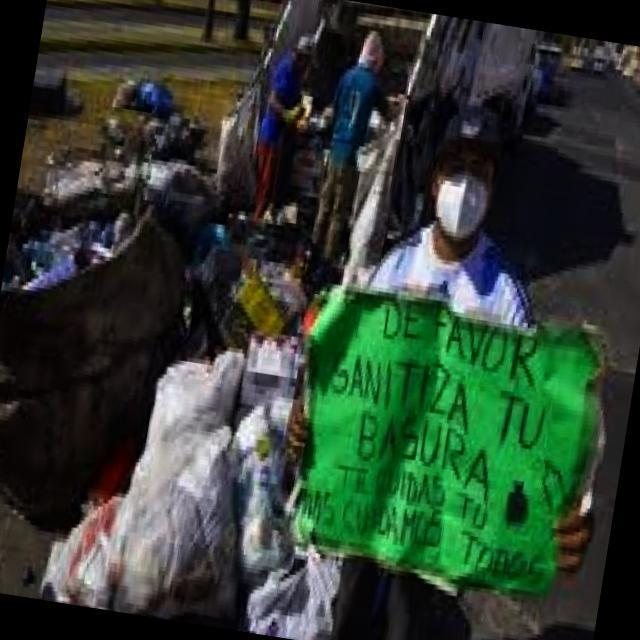garbage: (0, 56, 403, 640)
